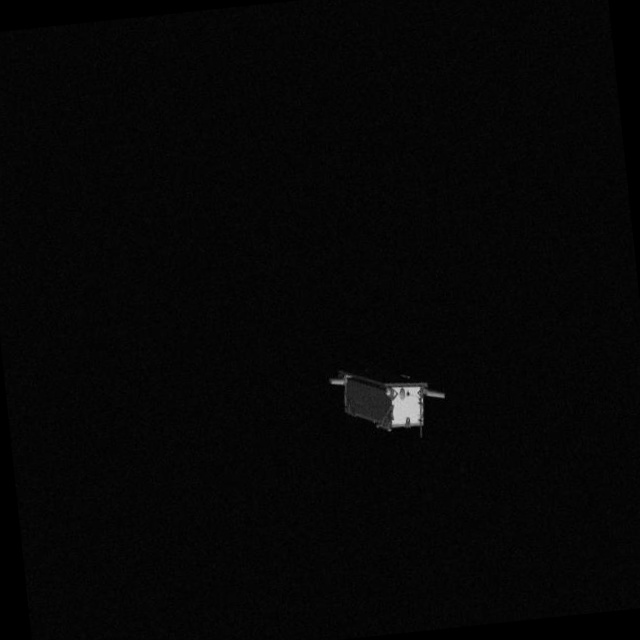satellite: (326, 349, 454, 441)
